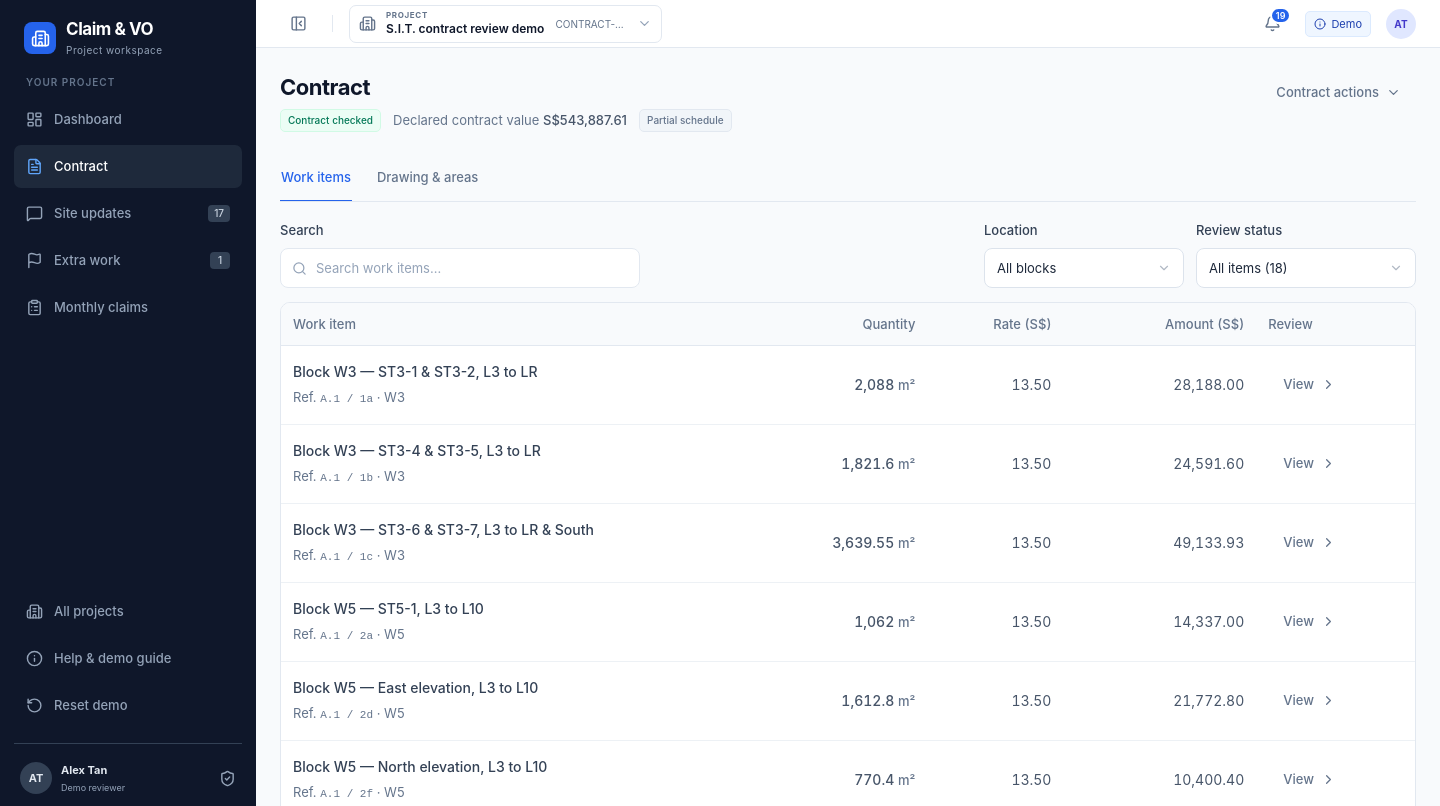
contract work list and source review stay connected › keeps search and both filters visible above the five-column work list and applies them together immediately
This screenshot has width=1440, height=806.
Expected: the number of column headings is 5, [281,303,757,345]; [757,303,927,345]; [927,303,1064,345]; [1064,303,1256,345]; [1256,303,1415,345]
Expected: the button "Clear all" is not shown
Click the dropdown named "Filter by block".
click(1084, 268)  # box [984,248,1184,288]
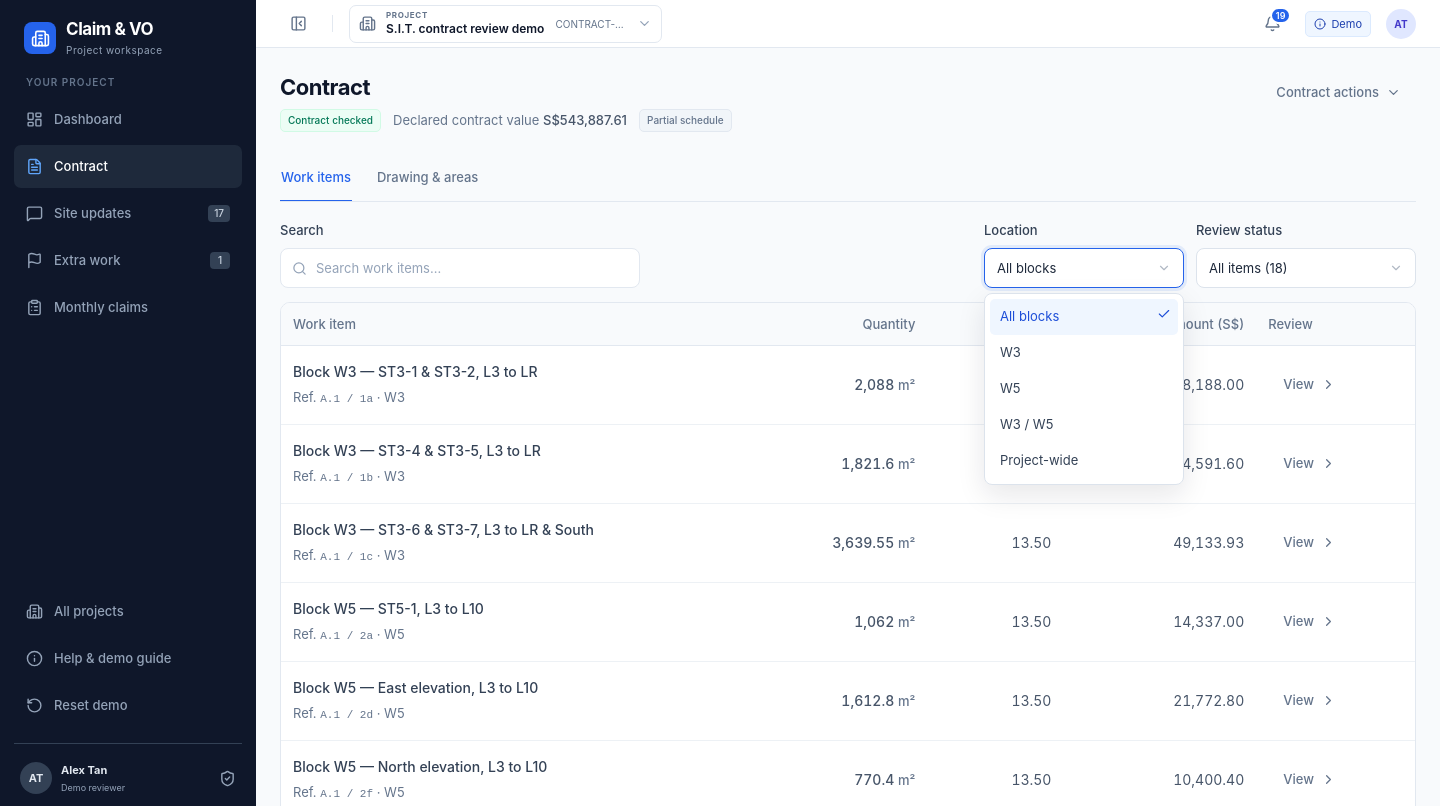
Click the option "W5".
click(1010, 388)  # box [1000,380,1020,396]
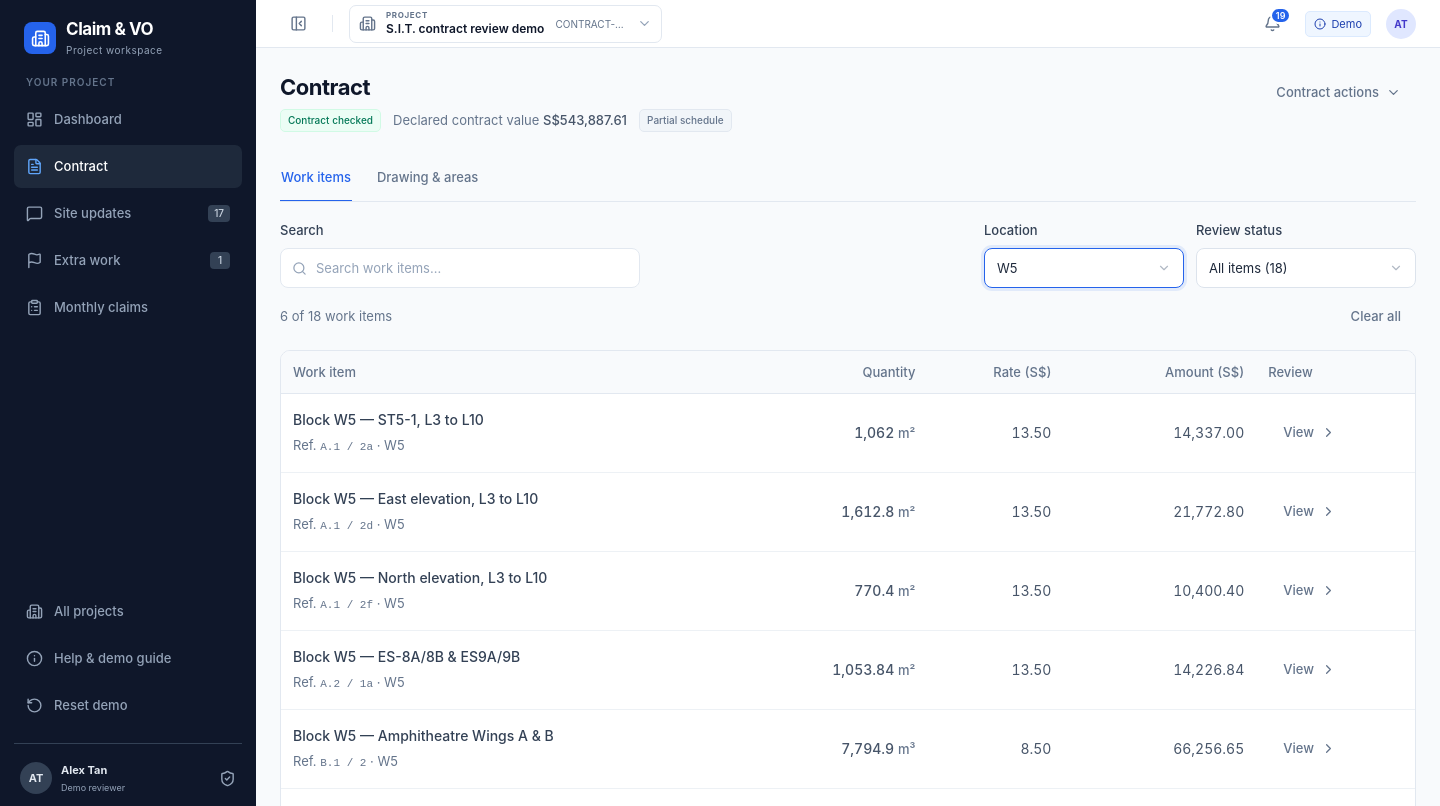
Click the dropdown named "Filter contract review status".
click(1306, 268)  # box [1196,248,1416,288]
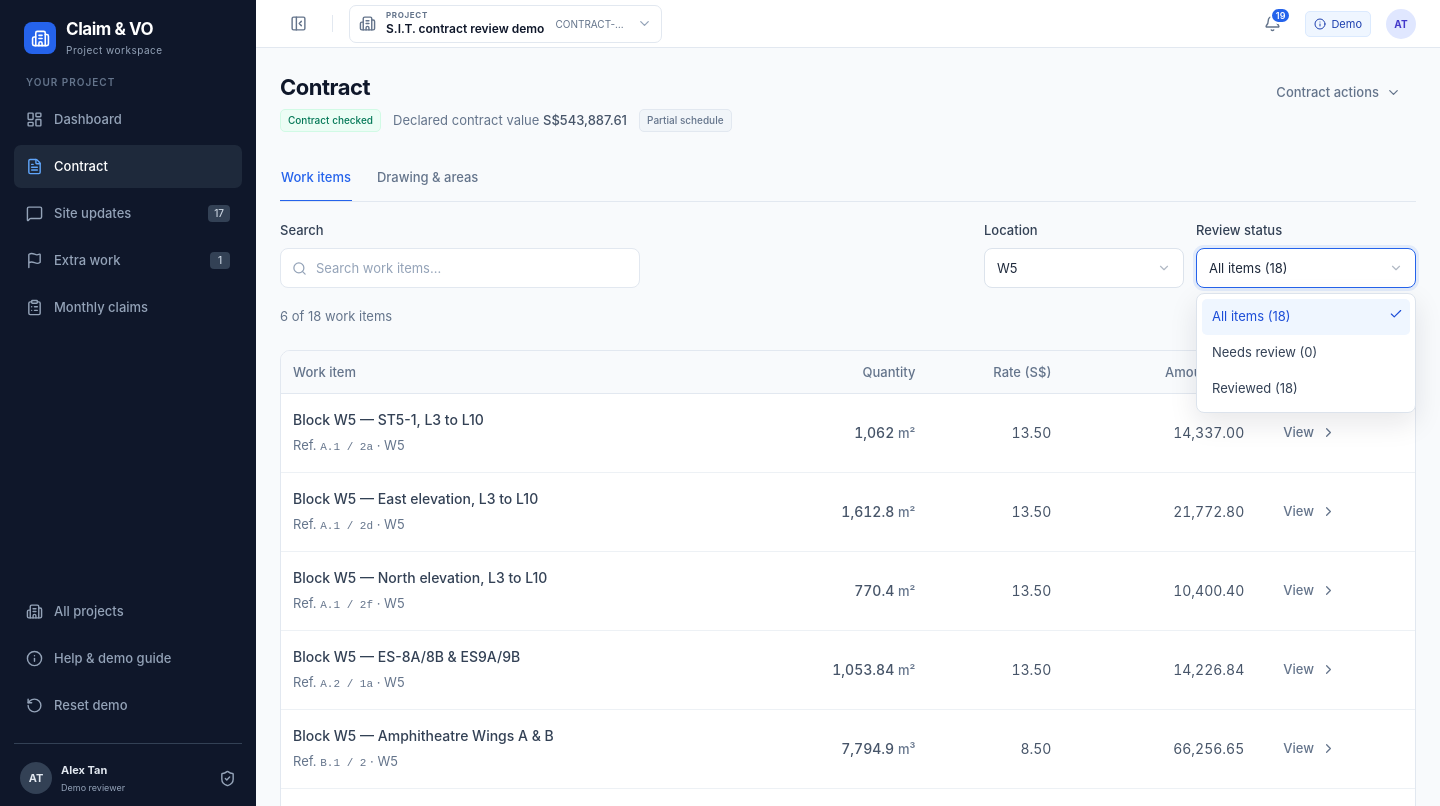
Click the option "Reviewed (18)".
click(1255, 388)  # box [1212,380,1298,396]
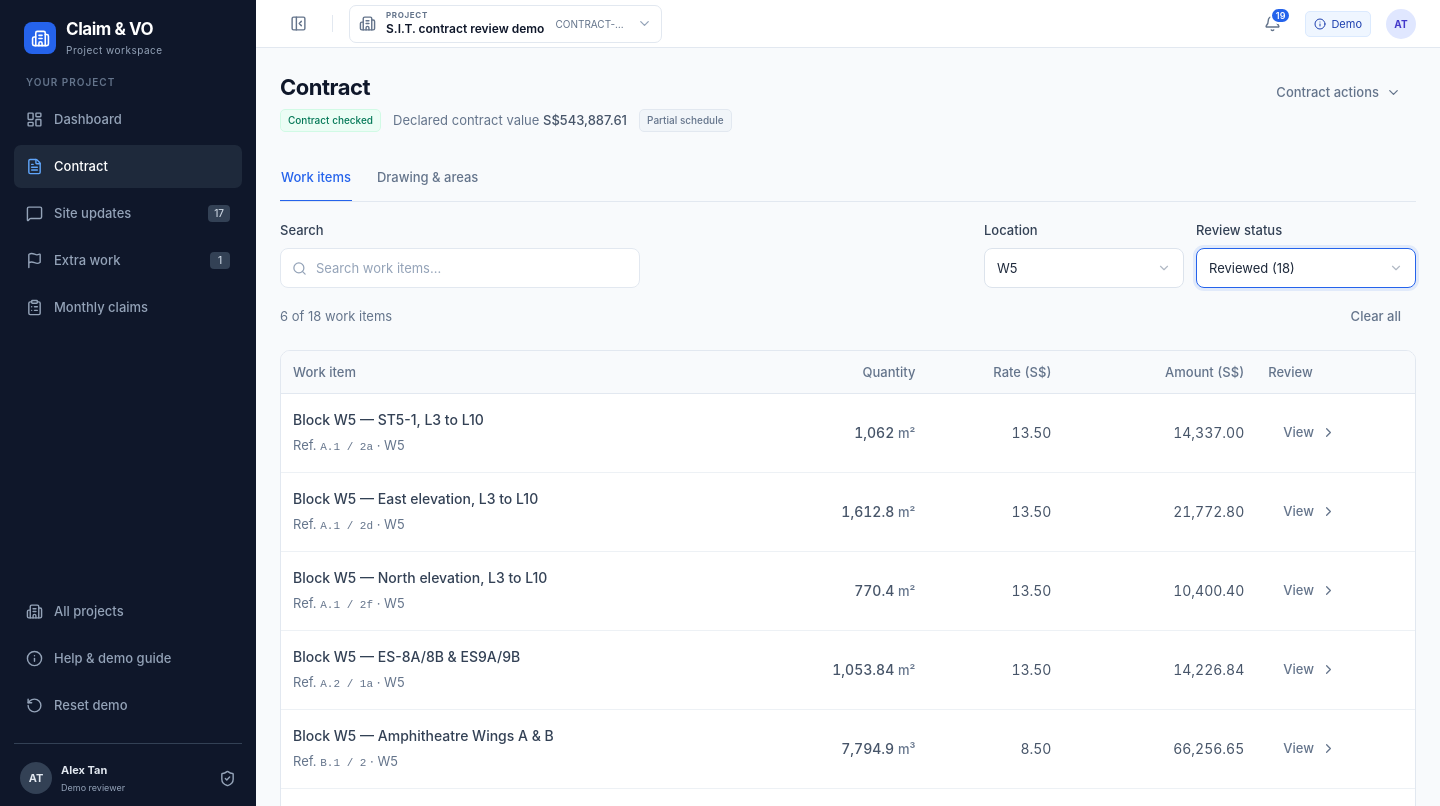
Type "ST5-1" into the field named "Search work items".
click(472, 268); type("ST5-1")  # box [316,249,628,287]
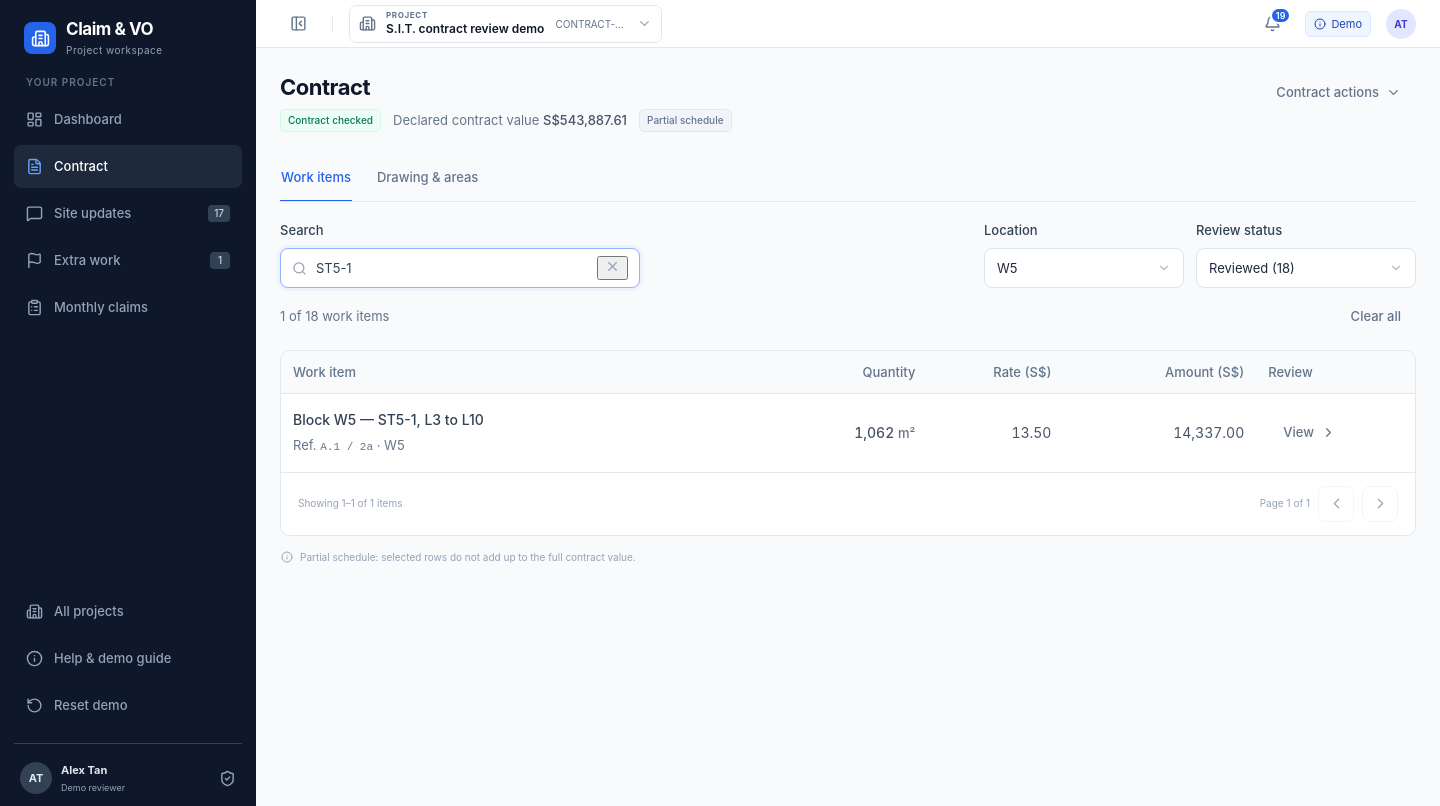
Now the button "Clear all" is shown, box [1336,296,1416,336]
Now the number of buttons named "Review WI-" is 1, box [1268,413,1351,453]
